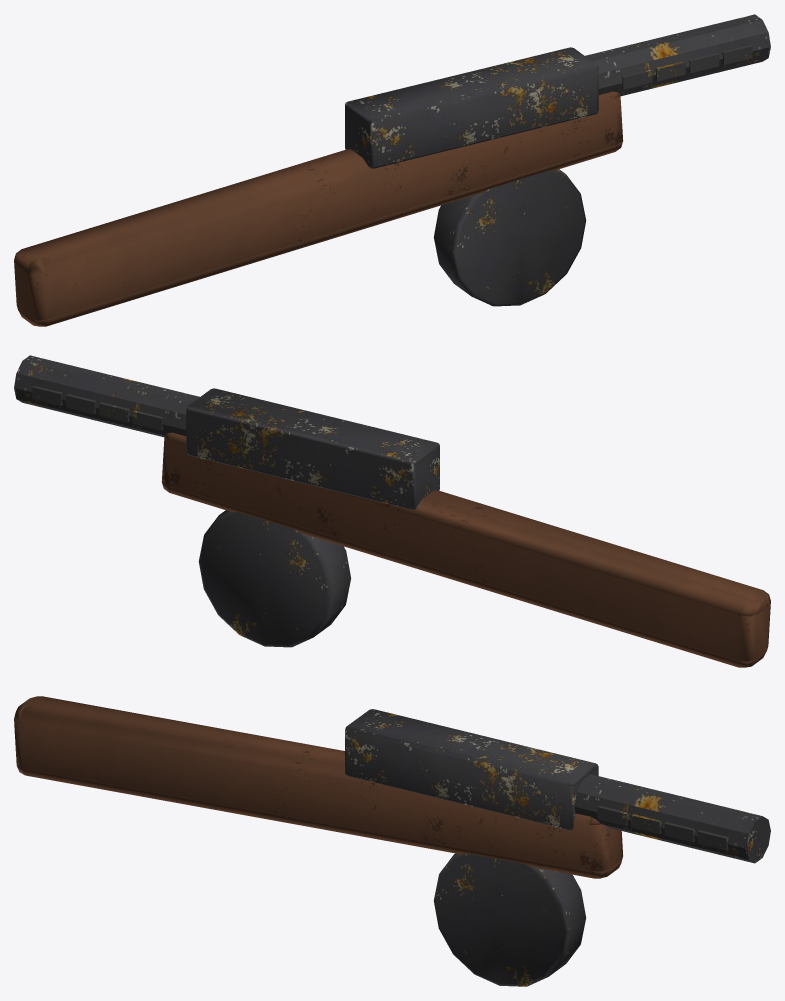
File: held_weapon_ppsh.glb
3 renders of one model, top to bottom at view 1: azimuth 30°, elevation 25°; view 2: azimuth 150°, elevation 25°; view 3: azimuth 330°, elevation 25°, orthographic.
Visible parts, largest first — view 1: box, box.001, cyl.001, cyl; view 2: box, box.001, cyl.001, cyl; view 3: box, box.001, cyl.001, cyl.
Part boxes in pixels (x1,y1,x2,y2): box: (14, 91, 623, 326); box.001: (345, 47, 598, 168); cyl.001: (433, 169, 586, 306); cyl: (585, 14, 770, 96); box: (161, 432, 770, 667); box.001: (186, 388, 439, 509); cyl.001: (198, 510, 351, 647); cyl: (14, 355, 199, 437); box: (14, 696, 623, 878); box.001: (345, 709, 598, 830); cyl.001: (433, 853, 586, 986); cyl: (574, 774, 770, 863).
Size of the model in its own units: 0.7708 by 0.225 by 0.05.
Materials: 3 (3 with a texture image).
